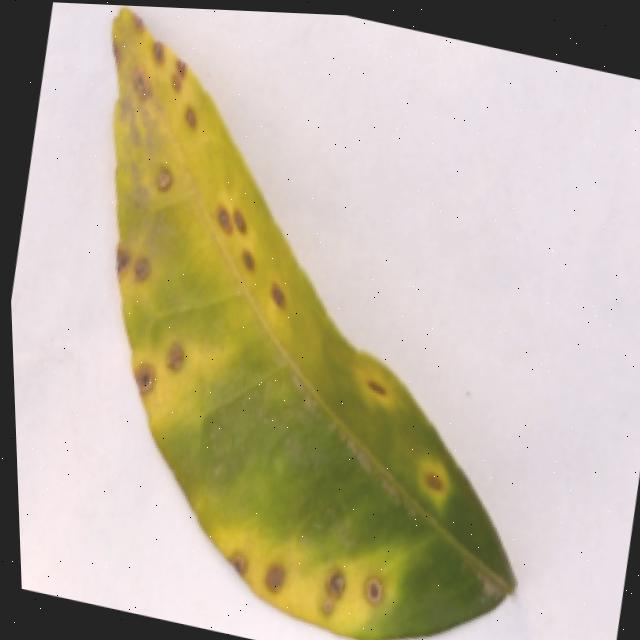canker: (112, 10, 514, 640), (112, 10, 301, 396), (210, 529, 406, 639), (404, 445, 469, 517), (349, 357, 403, 415)
